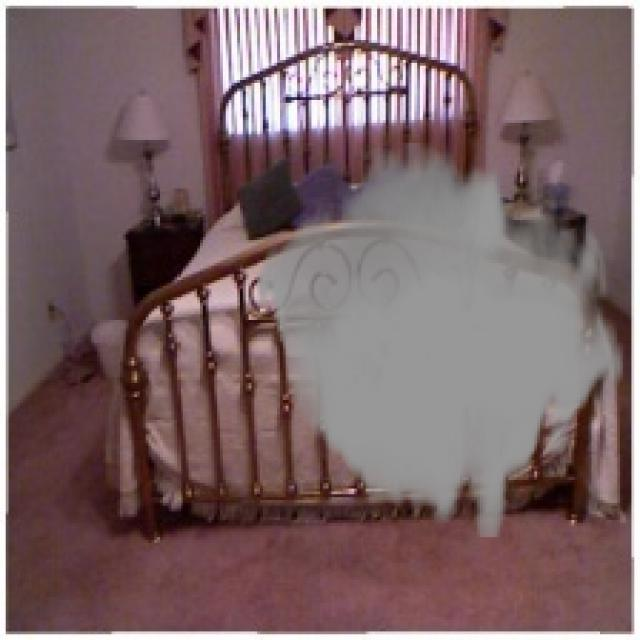smoke: (254, 143, 626, 537)
